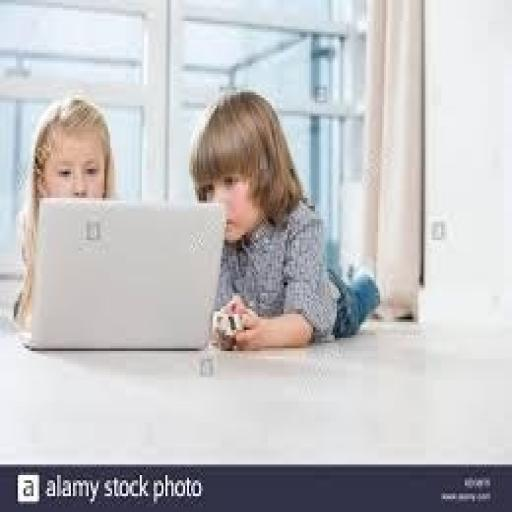using_laptop: (22, 195, 226, 351)
